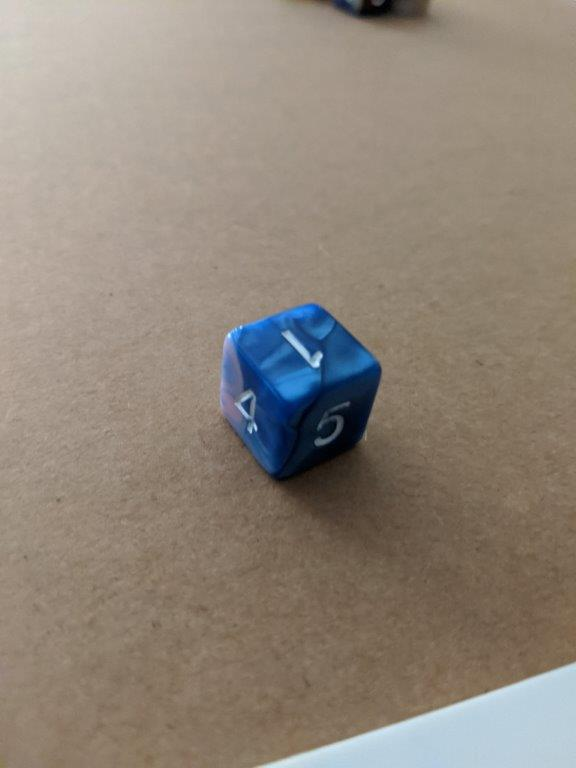d6-1: (218, 301, 384, 480)
